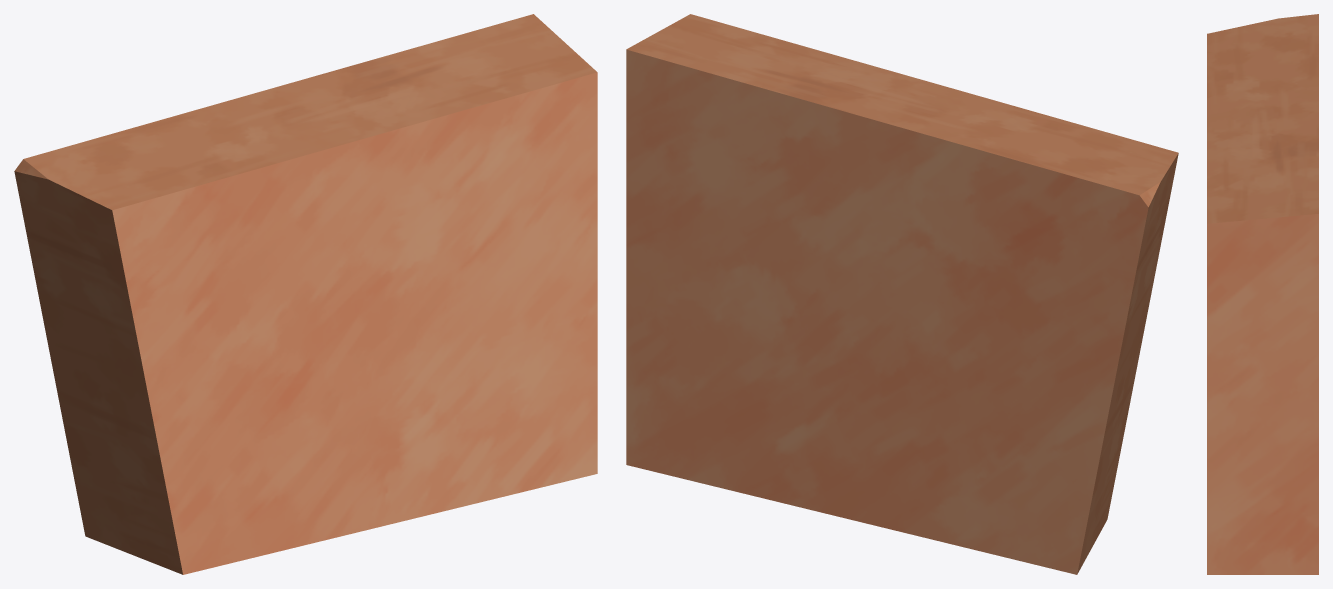
The model's file is wall_upper_s08.fbx.
The picture shows the model from 3 angles, left to right: view 1: azimuth 30°, elevation 25°; view 2: azimuth 150°, elevation 25°; view 3: azimuth 270°, elevation 25°; orthographic projection. The views are drawn at different scales.
Visible parts, largest first — view 1: wall_upper_s08; view 2: wall_upper_s08; view 3: wall_upper_s08.
Boxes of the visible parts, <box> form: wall_upper_s08: <box>14,14,597,574</box>; wall_upper_s08: <box>626,14,1178,574</box>; wall_upper_s08: <box>1207,14,1318,574</box>.
Bounding box in the file's own units: 4.69 × 3.56 × 1.
